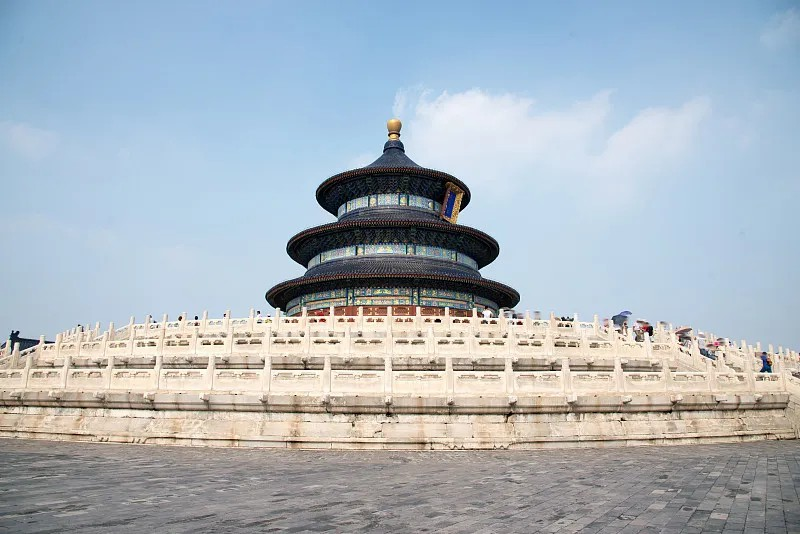Heaven: (264, 121, 520, 318)
